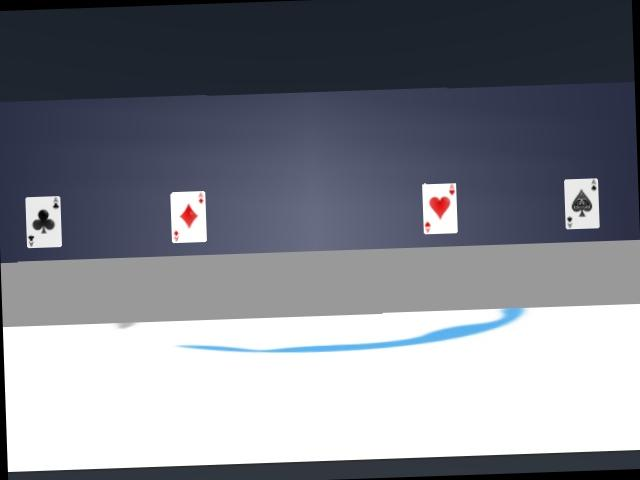club: (25, 196, 61, 247)
diamond: (170, 191, 206, 242)
heart: (422, 183, 457, 233)
spade: (564, 178, 599, 229)
